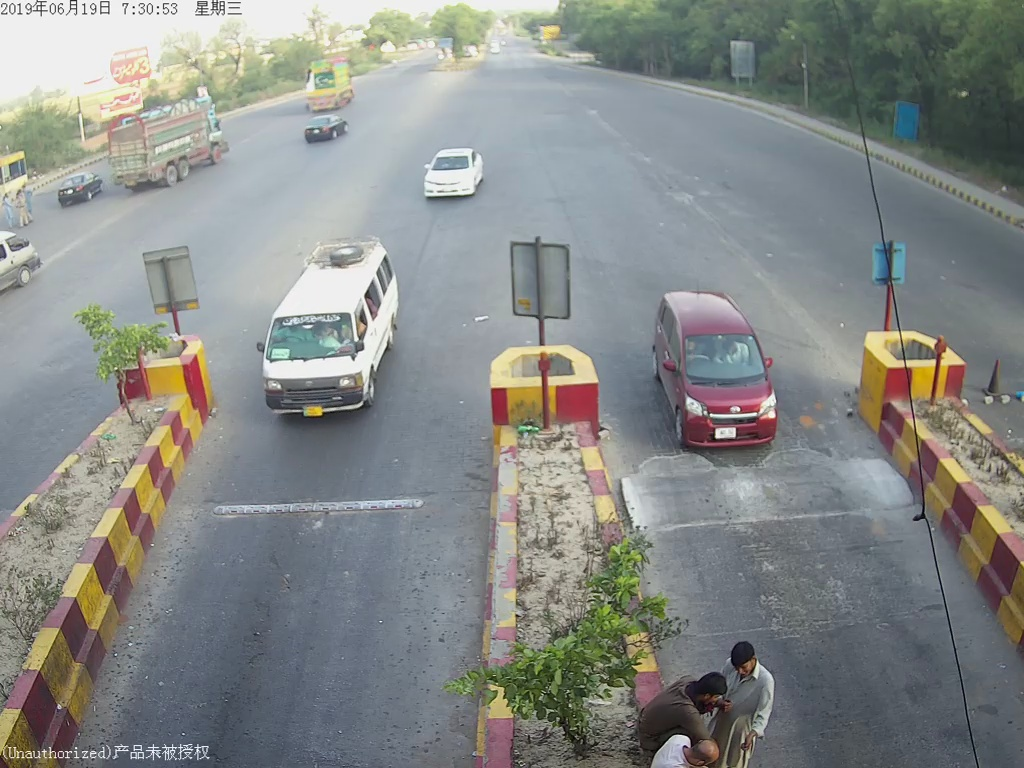Cat-1: (644, 285, 788, 449)
Cat-2: (244, 234, 410, 427), (414, 139, 488, 203)
